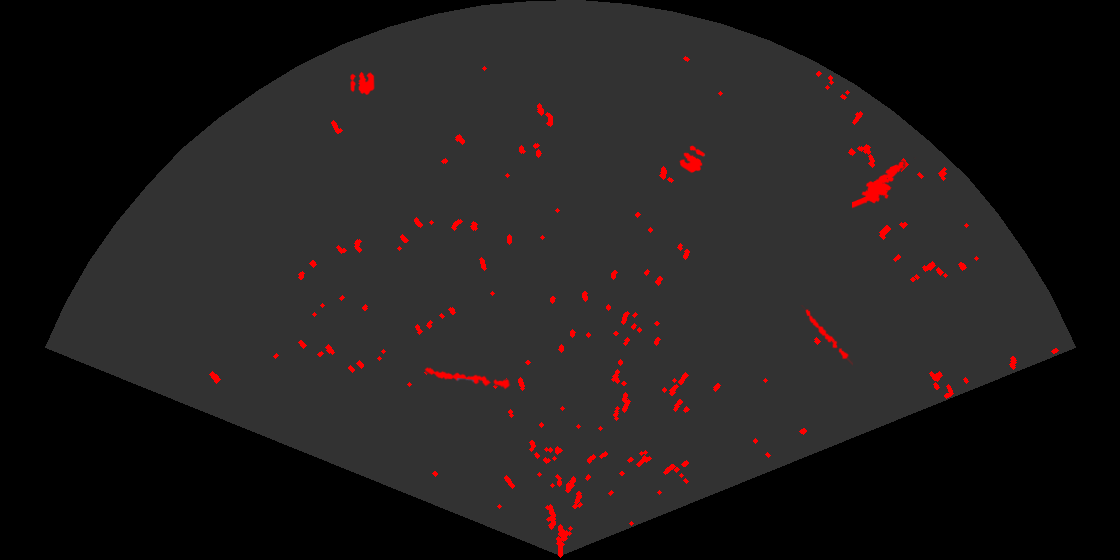ball: (678, 144, 707, 175), (349, 70, 376, 96)
chain: (799, 305, 853, 367), (423, 366, 511, 391)
frogman: (852, 157, 916, 210)
